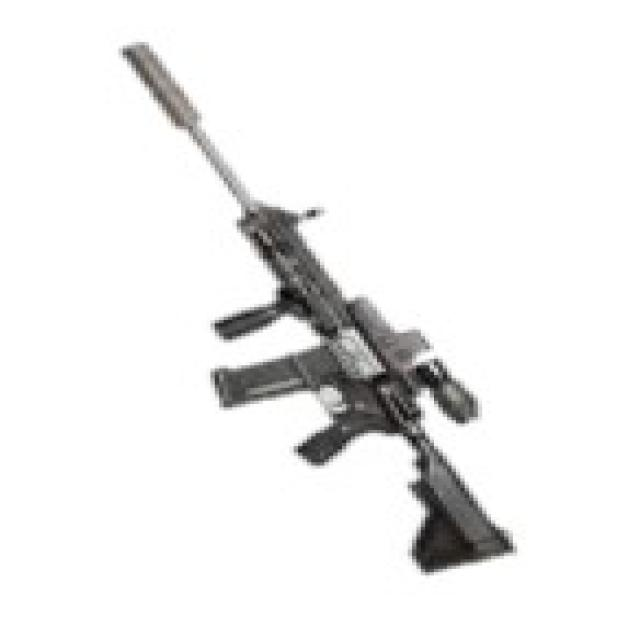rifle: (115, 38, 526, 580)
